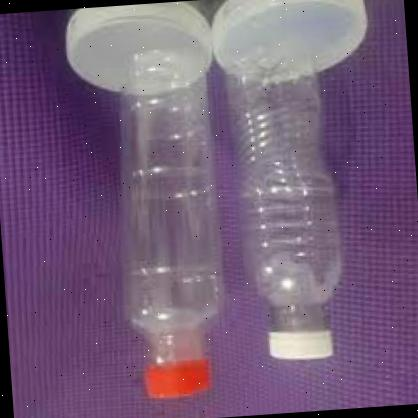bottle: (100, 30, 244, 412), (214, 26, 370, 370)
cap: (135, 358, 220, 406), (262, 324, 338, 365)
